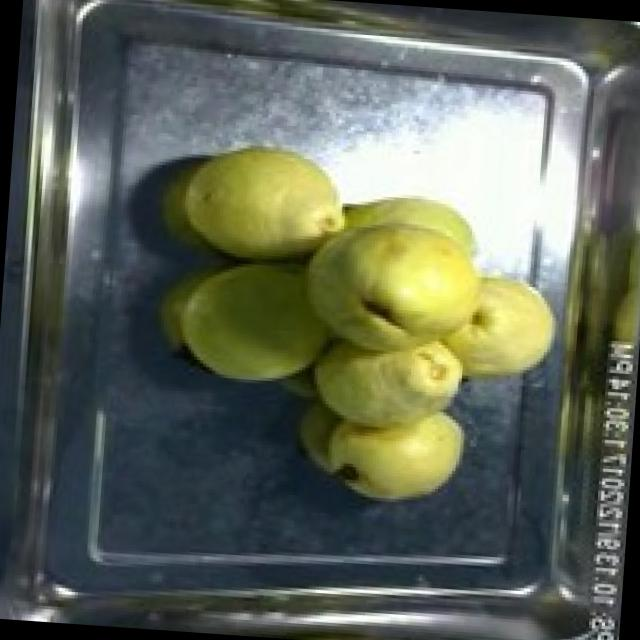Fruit: (319, 170, 579, 402), (284, 309, 483, 516), (142, 238, 344, 398), (167, 127, 358, 280)
